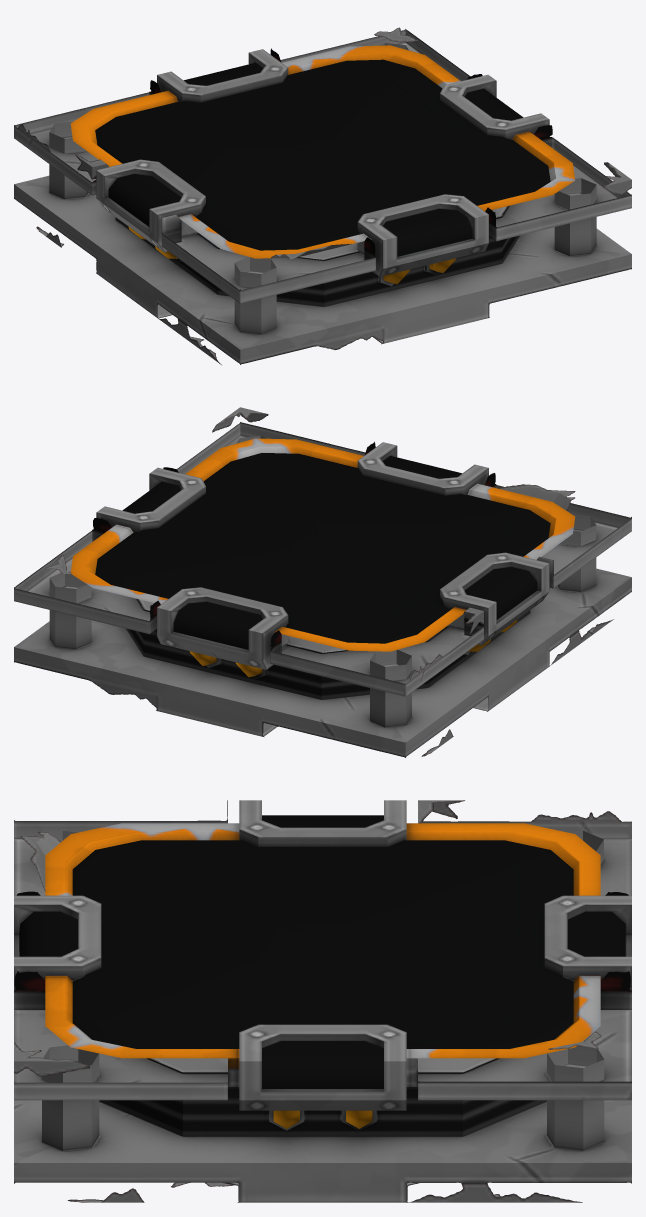
File: obj_interactive_challengetrigger_off.fbx
3 views of the same model, one above another, from view 1: azimuth 30°, elevation 25°; view 2: azimuth 150°, elevation 25°; view 3: azimuth 270°, elevation 25° (orthographic). The views are drawn at different scales.
Parts seen in each view (by area): view 1: trigger_off; view 2: trigger_off; view 3: trigger_off.
Boxes of the visible parts, left/top/right/bottom form: trigger_off: left=14, top=27, right=631, bottom=364; trigger_off: left=14, top=407, right=631, bottom=757; trigger_off: left=14, top=800, right=631, bottom=1202.
Bounding box in the file's own units: 4 × 1.01 × 4.
